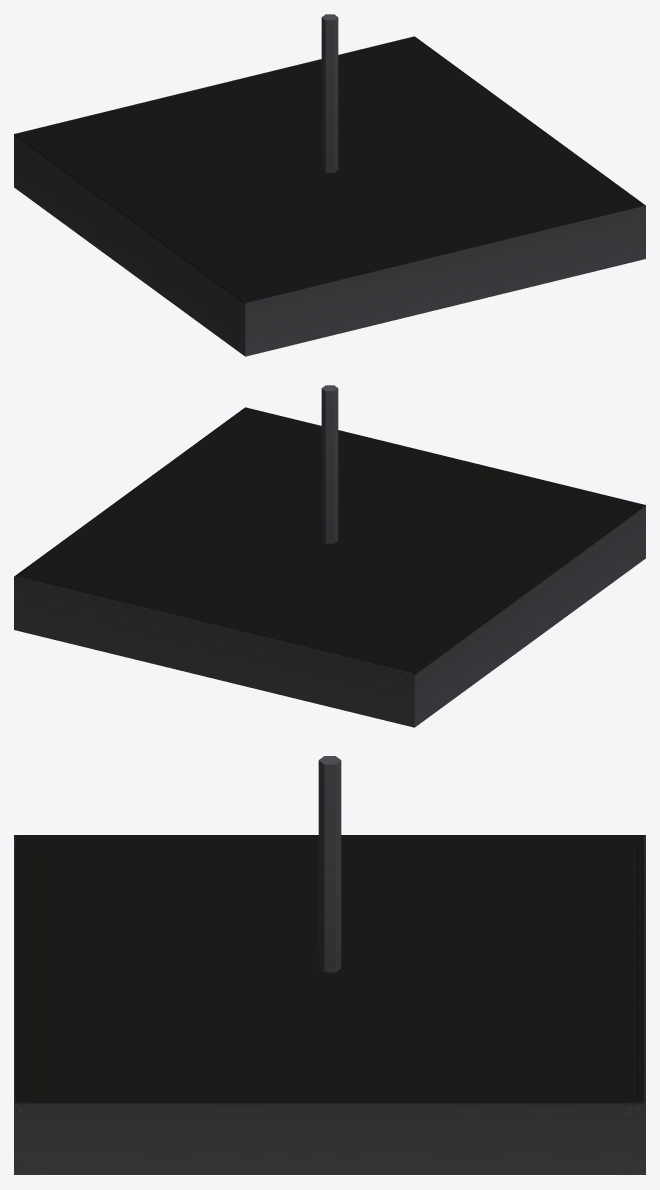
The model's file is gym_light.glb.
3 views of the same model, one above another, from view 1: azimuth 30°, elevation 25°; view 2: azimuth 150°, elevation 25°; view 3: azimuth 270°, elevation 25° (orthographic). The views are drawn at different scales.
Visible parts, largest first — view 1: GymLight; view 2: GymLight; view 3: GymLight.
Part boxes in pixels (x1,y1,x2,y2): GymLight: (14,14,645,356); GymLight: (14,385,645,727); GymLight: (14,756,645,1175).
Bounding box in the file's own units: 1.1 × 0.565 × 1.1.
2 materials, 2 textured.
